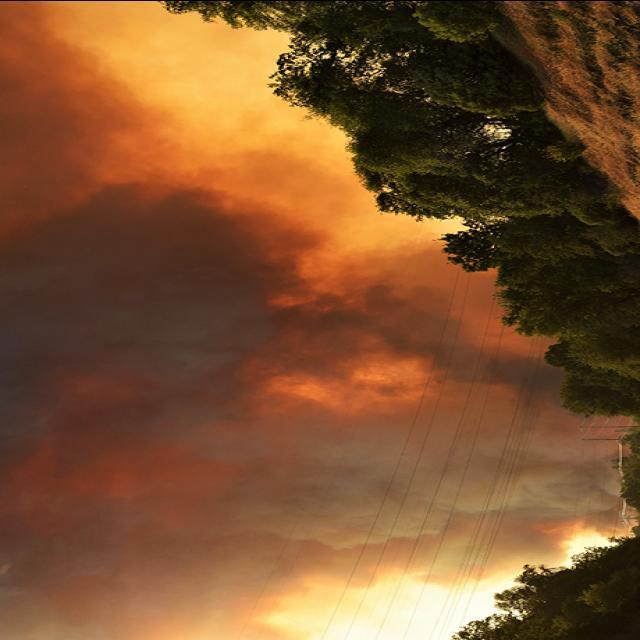Fire: (260, 522, 616, 640)
